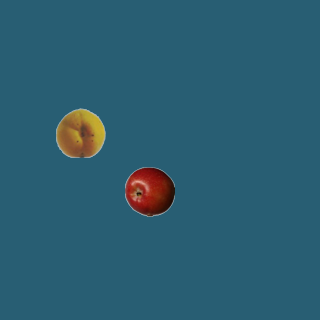Apple Braeburn: (124, 166, 174, 216)
Peach 2: (55, 107, 105, 157)
